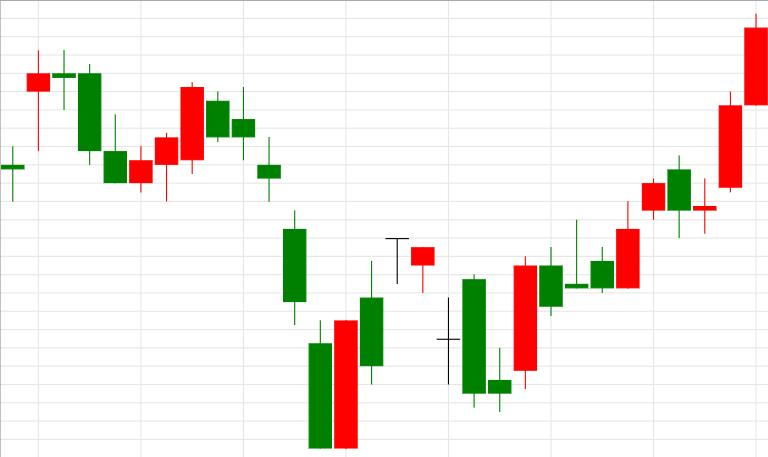bearish_engulfing_fall: (539, 155, 691, 315)
bullish_engulfing_rise: (206, 86, 358, 449)
